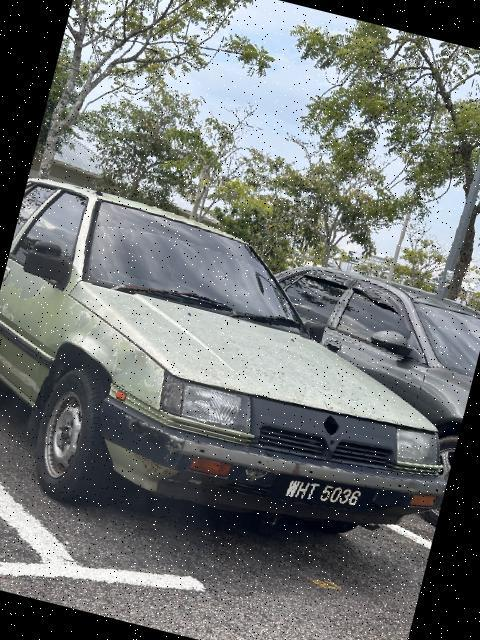License_Plate: (275, 469, 374, 523)
WHT5036: (275, 469, 374, 523)
car: (1, 158, 480, 584), (204, 242, 480, 520)
